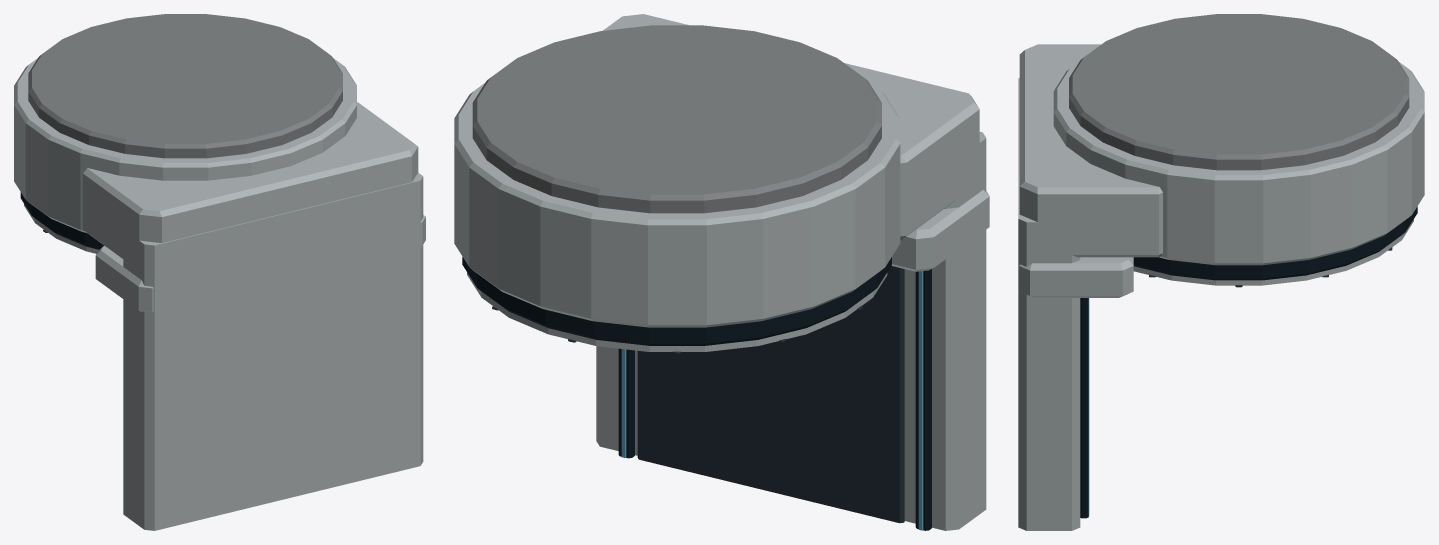
The model's file is transporter_upper.obj.
3 views of the same model, side by side, from view 1: azimuth 30°, elevation 25°; view 2: azimuth 150°, elevation 25°; view 3: azimuth 270°, elevation 25° (orthographic). The views are drawn at different scales.
Parts seen in each view (by area): view 1: upper_rear_spine, upper_canopy_crown, upper_canopy_mount, upper_emitter_canopy, upper_left_canopy_shoulder, upper_emitter_socket; view 2: upper_canopy_crown, upper_emitter_canopy, upper_recessed_backpanel, upper_rear_spine, upper_canopy_mount, upper_emitter_socket, upper_left_canopy_shoulder, upper_left_light_socket, upper_continuous_emitter_ring, upper_left_guide_light, upper_right_light_socket, upper_right_guide_light; view 3: upper_canopy_crown, upper_emitter_canopy, upper_rear_spine, upper_canopy_mount, upper_right_canopy_shoulder, upper_emitter_socket, upper_right_light_socket, upper_continuous_emitter_ring.
Boxes of the visible parts, bbox=[...] form: upper_rear_spine: bbox=[123, 172, 423, 530]; upper_canopy_crown: bbox=[28, 14, 342, 158]; upper_canopy_mount: bbox=[83, 102, 418, 269]; upper_emitter_canopy: bbox=[14, 58, 356, 232]; upper_left_canopy_shoulder: bbox=[95, 246, 153, 311]; upper_emitter_socket: bbox=[20, 192, 104, 249]; upper_canopy_crown: bbox=[472, 25, 881, 213]; upper_emitter_canopy: bbox=[454, 82, 900, 327]; upper_recessed_backpanel: bbox=[637, 266, 904, 523]; upper_rear_spine: bbox=[596, 131, 986, 530]; upper_canopy_mount: bbox=[603, 14, 979, 240]; upper_emitter_socket: bbox=[462, 257, 891, 345]; upper_left_canopy_shoulder: bbox=[891, 190, 989, 271]; upper_left_light_socket: bbox=[915, 269, 931, 530]; upper_continuous_emitter_ring: bbox=[467, 272, 887, 351]; upper_left_guide_light: bbox=[918, 271, 923, 530]; upper_right_light_socket: bbox=[618, 348, 634, 458]; upper_right_guide_light: bbox=[621, 349, 626, 457]; upper_canopy_crown: bbox=[1069, 14, 1409, 170]; upper_emitter_canopy: bbox=[1053, 61, 1424, 265]; upper_rear_spine: bbox=[1018, 78, 1080, 530]; upper_canopy_mount: bbox=[1019, 44, 1162, 257]; upper_right_canopy_shoulder: bbox=[1019, 257, 1133, 297]; upper_emitter_socket: bbox=[1133, 206, 1417, 280]; upper_right_light_socket: bbox=[1080, 298, 1088, 518]; upper_continuous_emitter_ring: bbox=[1133, 219, 1413, 285].
Size of the model in its own units: 0.8985 by 0.9969 by 0.9836.
